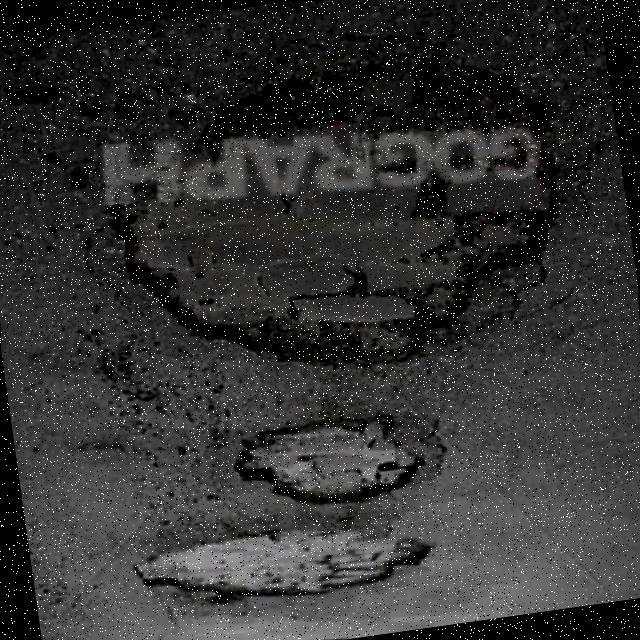Pothole: (99, 61, 558, 366), (134, 525, 430, 603), (234, 413, 423, 502)
